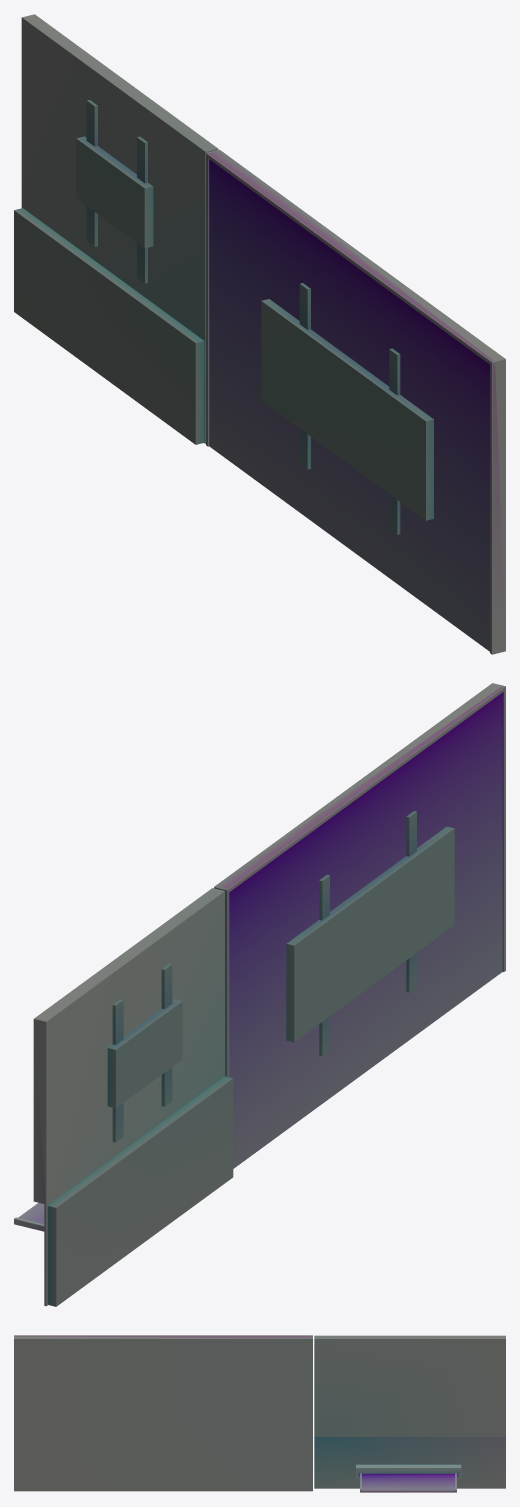
Rendered from simready-panel_control_surgery_room_a01.glb.
The picture shows the model from 3 angles, top to bottom: view 1: azimuth 30°, elevation 25°; view 2: azimuth 150°, elevation 25°; view 3: azimuth 270°, elevation 25°; orthographic projection. The views are drawn at different scales.
Parts seen in each view (by area): view 1: panel, upper_panel, lower_back_strip, rear_plate, end_rear_plate; view 2: panel, upper_panel, lower_back_strip, rear_plate, end_rear_plate; view 3: panel, upper_panel, shelf_deck.
Boxes of the visible parts, x1,y1,x2,y2 form: panel: (206, 149, 505, 654); upper_panel: (21, 14, 218, 443); lower_back_strip: (14, 208, 204, 444); rear_plate: (261, 283, 433, 534); end_rear_plate: (76, 100, 153, 283); panel: (214, 683, 505, 1168); upper_panel: (33, 888, 224, 1306); lower_back_strip: (47, 1076, 233, 1306); rear_plate: (286, 811, 454, 1056); end_rear_plate: (107, 963, 182, 1142); panel: (14, 1335, 312, 1491); upper_panel: (314, 1335, 505, 1488); shelf_deck: (356, 1464, 461, 1492).
Bounding box in the file's own units: 0.1988 × 0.6234 × 1.82.
